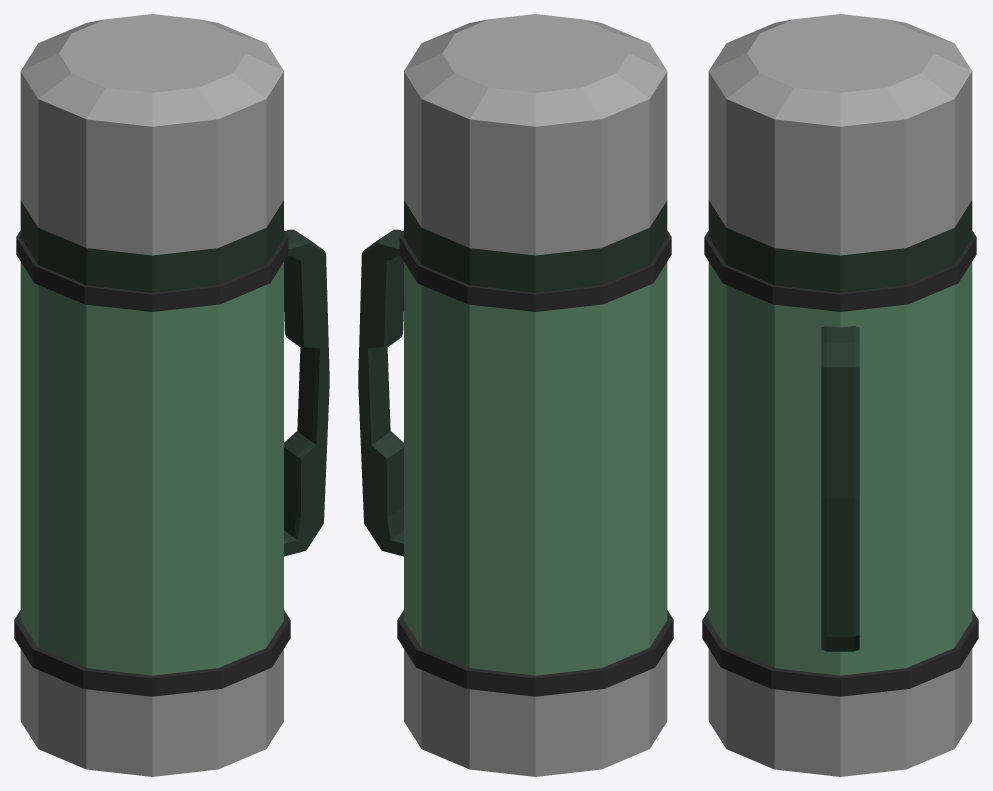
File: Thermos_vc.fbx
3 views of the same model, side by side, from view 1: azimuth 30°, elevation 25°; view 2: azimuth 150°, elevation 25°; view 3: azimuth 270°, elevation 25° (orthographic).
Parts seen in each view (by area): view 1: Thermos_vc; view 2: Thermos_vc; view 3: Thermos_vc.
Boxes of the visible parts, x1=… form: Thermos_vc: x1=14, y1=14, x2=329, y2=776; Thermos_vc: x1=358, y1=14, x2=673, y2=776; Thermos_vc: x1=702, y1=14, x2=978, y2=776.
Bounding box in the file's own units: 12.7 × 28.02 × 10.51.
